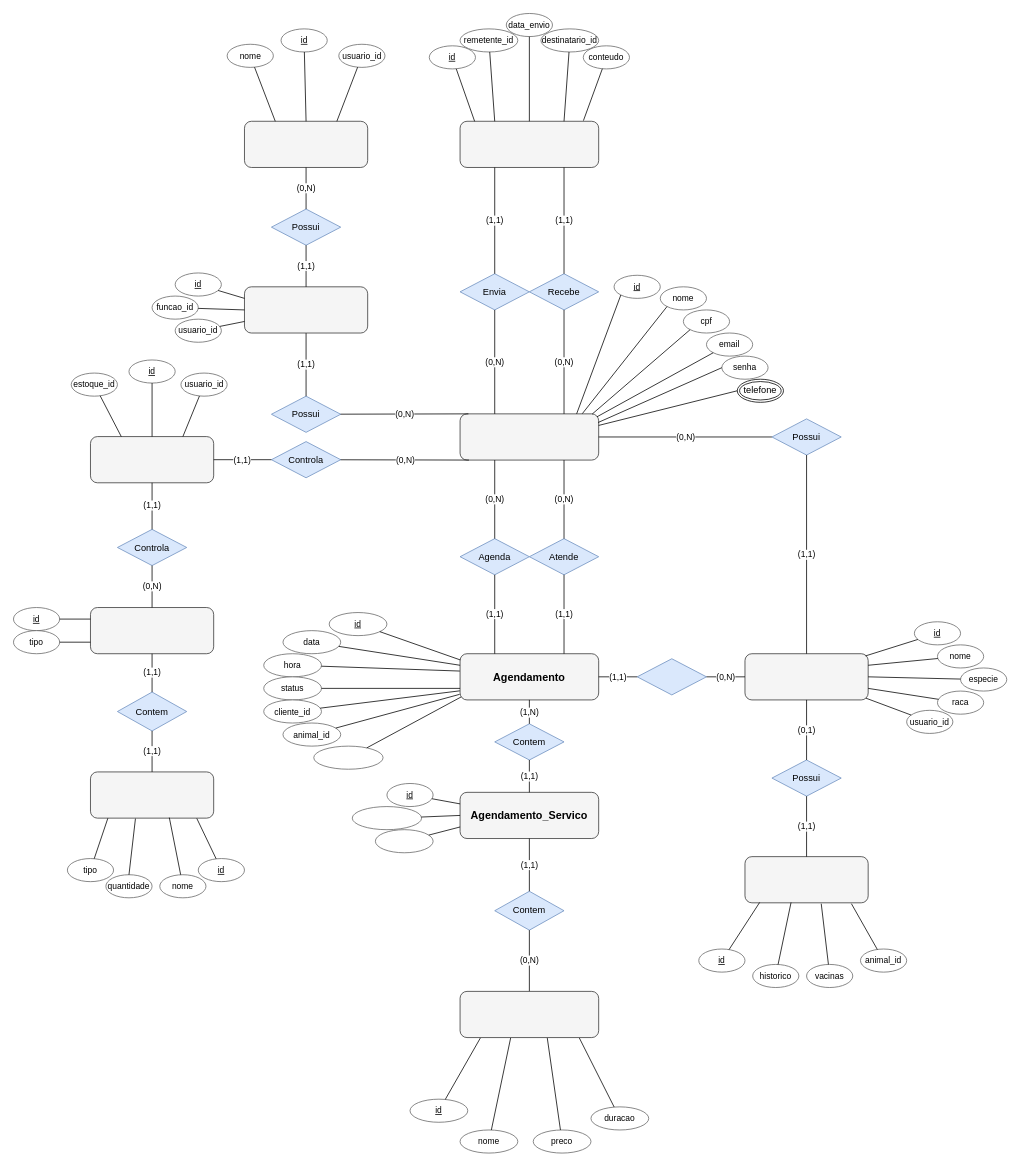
This 1020x1167 diagram has some shape labels left out. Here are the shapes that lost their labels. From the top down, the centre of each, then its label:
At [306,144]: "Funcao".
At [529,144]: "Mensagem".
At [306,309]: "Usuario_Role".
At [529,436]: "Usuario".
At [152,459]: "Usuario_Estoque".
At [152,630]: "Estoque".
At [671,676]: "Participa".
At [806,676]: "Animal".
At [348,757]: "banhista_id".
At [152,794]: "Material".
At [387,818]: "agendamento_id".
At [404,841]: "servico_id".
At [806,879]: "Prontuario".
At [529,1014]: "Servico".
